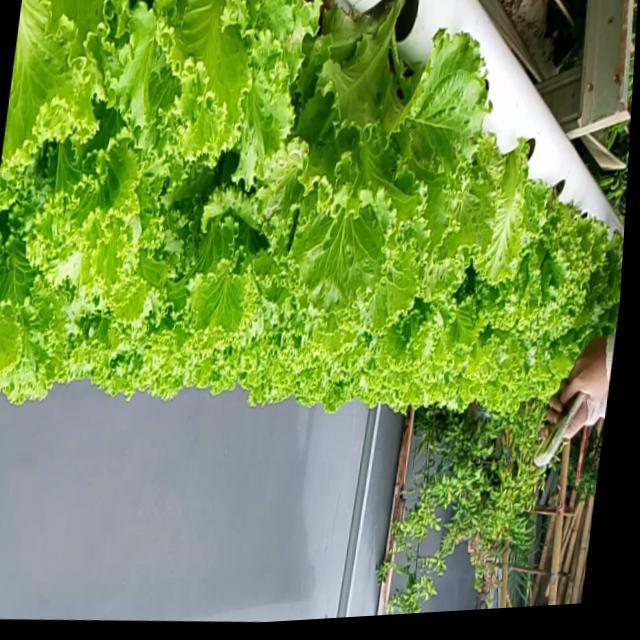Mature: (0, 0, 623, 413), (277, 1, 479, 297), (472, 154, 620, 368)
